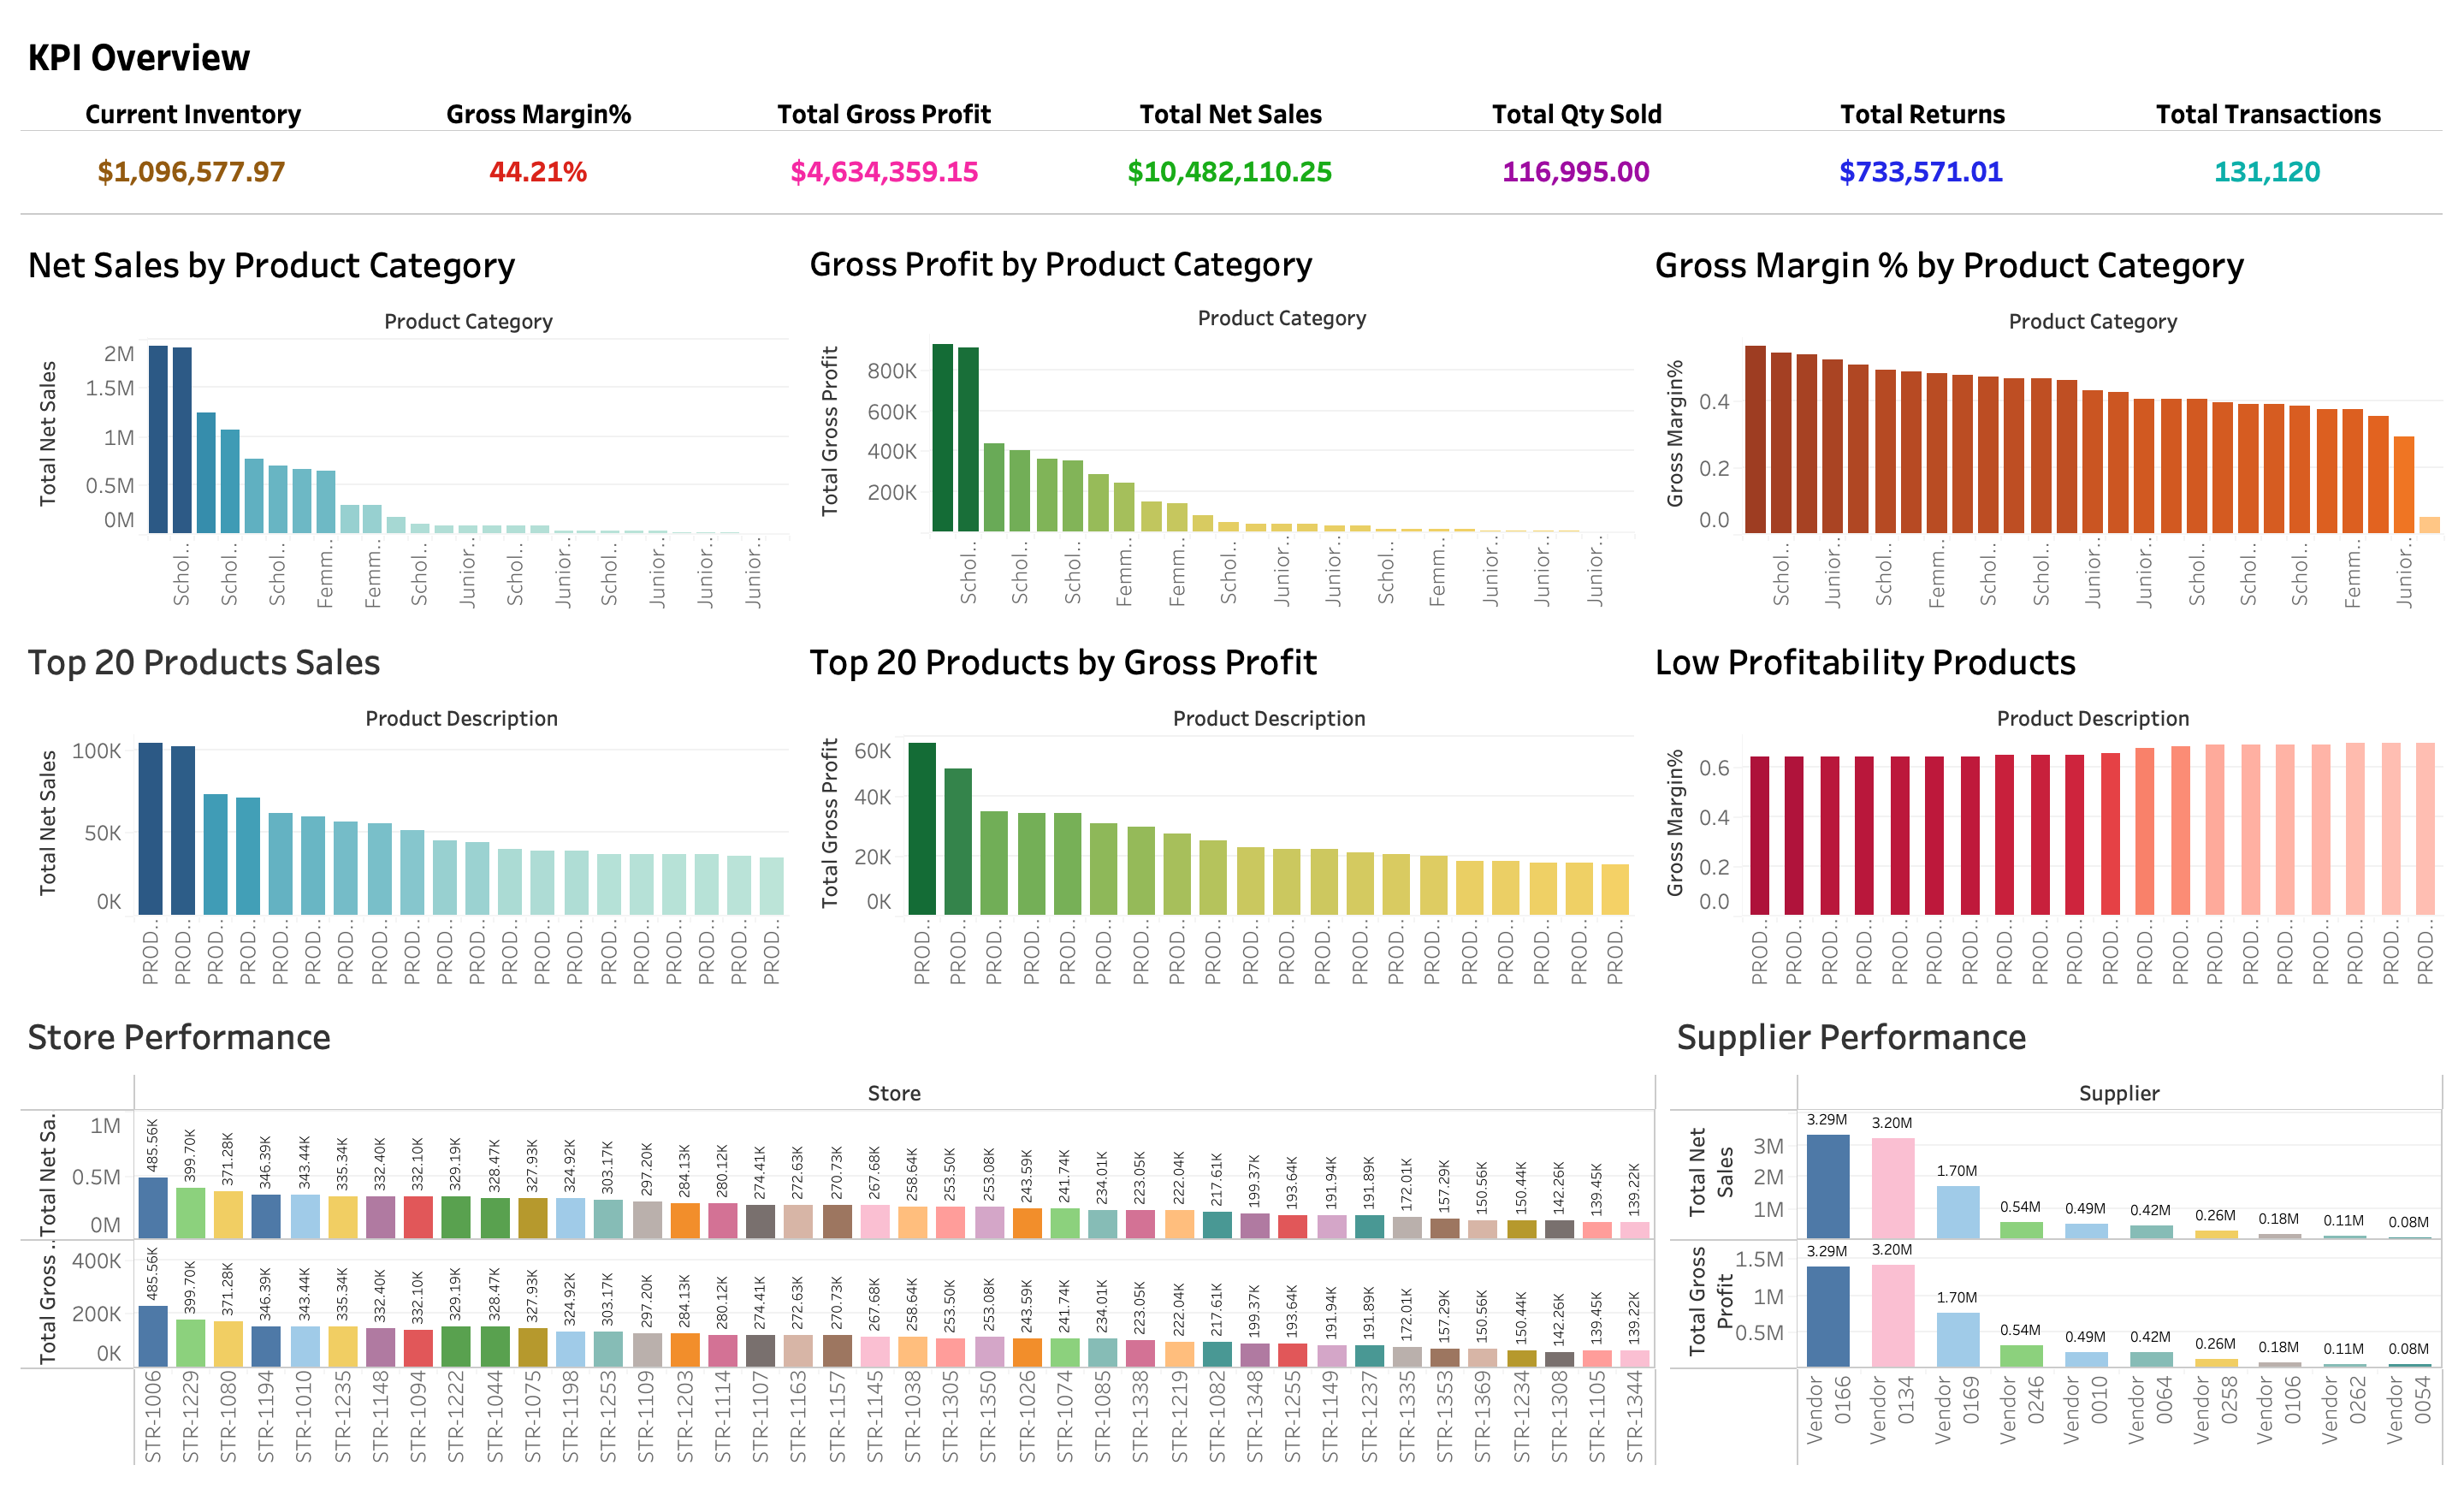

Layout of this report page (visuals, bound fields, positions):
{"tool":"tableau","page":{"name":"Business Performance","canvas":[1000,1000],"units":"permille","ordinal":0},"visuals":[{"type":"worksheet","title":"KPI Overview","mark":"Text","box":[6.5,12,987,139.8]},{"type":"worksheet","title":"Category Sales","mark":"Bar","rows":["total_net_sales"],"cols":["product_category"],"box":[6.5,151.8,317,264.3]},{"type":"worksheet","title":"Category Profit","mark":"Automatic","rows":["total_gross_profit"],"cols":["product_category"],"box":[323.5,151.8,342.5,264.3]},{"type":"worksheet","title":"Category Margin","mark":"Automatic","rows":["Calculation_0154211892711425"],"cols":["product_category"],"box":[666,151.8,327.5,264.3]},{"type":"worksheet","title":"Top 20 Products Sales","mark":"Automatic","rows":["total_net_sales"],"cols":["product_description"],"box":[6.5,416.2,317,250.4]},{"type":"worksheet","title":"Top 20 Products Profit","mark":"Automatic","rows":["total_gross_profit"],"cols":["product_description"],"box":[323.5,416.2,342.5,250.4]},{"type":"worksheet","title":"Low Profitability","mark":"Automatic","rows":["Calculation_0154211892711425"],"cols":["product_description"],"box":[666,416.2,327.5,250.4]},{"type":"worksheet","title":"Store Performance","mark":"Automatic","rows":["total_net_sales","total_gross_profit"],"cols":["store"],"box":[6.5,666.6,668.4,321.4]},{"type":"worksheet","title":"Supplier Performance","mark":"Automatic","rows":["total_net_sales","total_gross_profit"],"cols":["supplier"],"box":[674.8,666.6,318.7,321.4]}]}

Visuals, with their boxes on the dashboard's canvas, which has no fixed pixel size, in thousandths of its width and height (x1, y1, x2, y2). These are canvas units, not pixel positions in the 2464x1489 screenshot, which may show the page scaled, cropped or inside an application window:
"KPI Overview" worksheet (Text marks): box(6, 12, 994, 152)
"Category Sales" worksheet (Bar marks): box(6, 152, 324, 416)
"Category Profit" worksheet: box(324, 152, 666, 416)
"Category Margin" worksheet: box(666, 152, 994, 416)
"Top 20 Products Sales" worksheet: box(6, 416, 324, 667)
"Top 20 Products Profit" worksheet: box(324, 416, 666, 667)
"Low Profitability" worksheet: box(666, 416, 994, 667)
"Store Performance" worksheet: box(6, 667, 675, 988)
"Supplier Performance" worksheet: box(675, 667, 994, 988)
